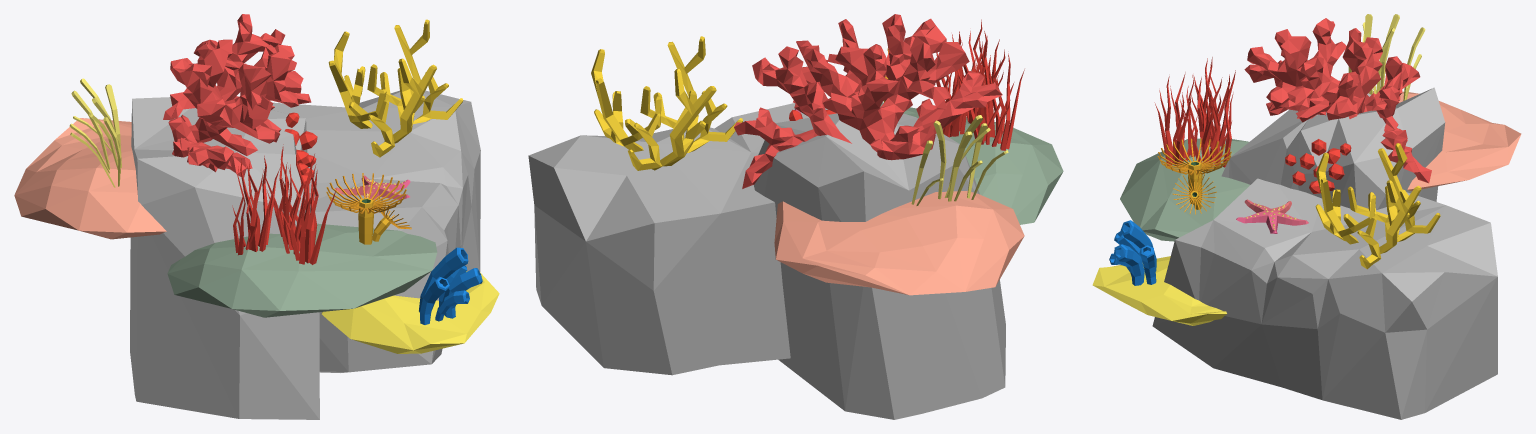
Rendered from Coral_reef_013.glb.
3 renders of one model, left to right at view 1: azimuth 30°, elevation 25°; view 2: azimuth 150°, elevation 25°; view 3: azimuth 270°, elevation 25°, orthographic. The views are drawn at different scales.
Visible parts, largest first — view 1: Coral_reef_013; view 2: Coral_reef_013; view 3: Coral_reef_013.
Part boxes in pixels (<box>): Coral_reef_013: <box>14,14,499,419</box>; Coral_reef_013: <box>528,14,1063,419</box>; Coral_reef_013: <box>1092,14,1521,419</box>.
Size of the model in its own units: 4.37 by 3.02 by 3.98.
1 material, 1 textured.
